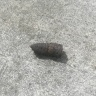Dog: (29, 43, 65, 58)
